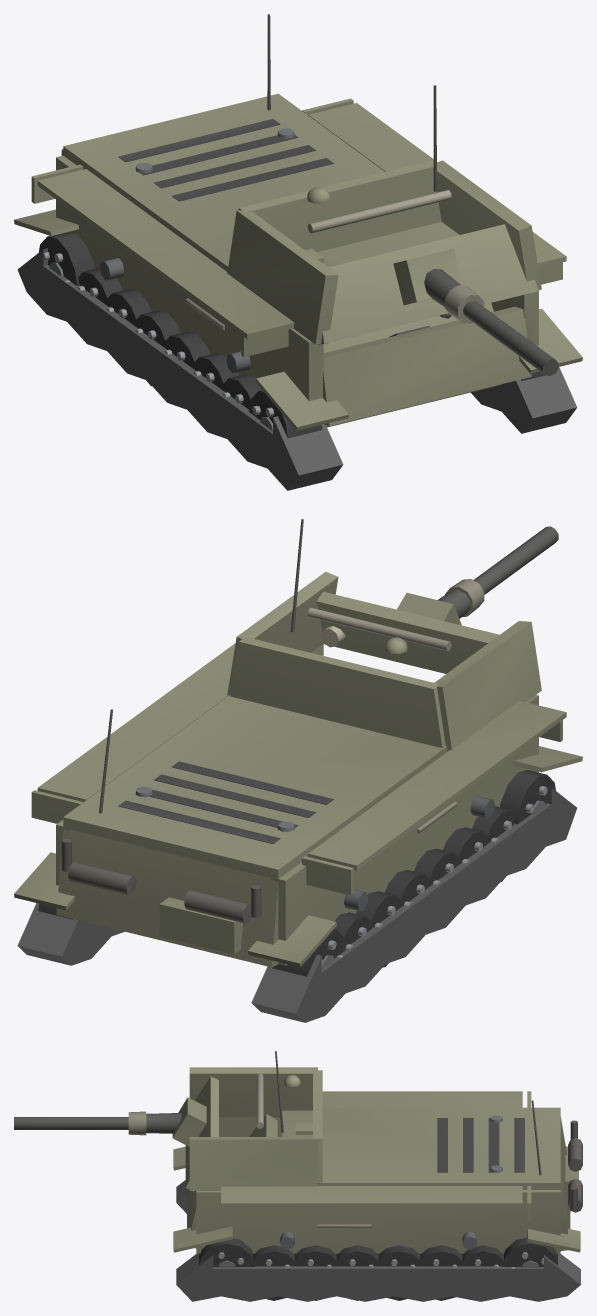
The model's file is m7priest.glb.
3 renders of one model, top to bottom at view 1: azimuth 30°, elevation 25°; view 2: azimuth 150°, elevation 25°; view 3: azimuth 270°, elevation 25°, orthographic. The views are drawn at different scales.
Parts seen in each view (by area): view 1: hullTop, hullSide, tracks, turretSide, lowerPlate, mantlet, barrel, turretRoof, wheel7, glacis, wheel6, wheel1 (+5 smaller); view 2: hullTop, hullSide, tracks, turretSide, hullRear, mantlet, barrel, turretRoof, wheel6, wheel7, wheel3, wheel4 (+4 smaller); view 3: hullSide, hullTop, tracks, turretSide, barrel, hullRear, mantlet, wheel14, wheel15, wheel10, wheel9, wheel13 (+6 smaller).
Boxes of the visible parts, x1,y1,x2,y2 form: hullTop: [63, 93, 459, 271]; hullSide: [31, 98, 566, 401]; tracks: [14, 209, 582, 490]; turretSide: [227, 160, 541, 344]; lowerPlate: [323, 306, 531, 425]; mantlet: [318, 224, 538, 344]; barrel: [424, 268, 558, 375]; turretRoof: [307, 85, 451, 233]; wheel7: [39, 232, 94, 285]; glacis: [305, 249, 502, 427]; wheel6: [249, 390, 322, 438]; wheel1: [104, 289, 151, 328]; hullTop: [63, 695, 447, 879]; hullSide: [31, 626, 566, 965]; tracks: [14, 746, 582, 1022]; turretSide: [227, 571, 541, 751]; hullRear: [56, 709, 280, 967]; mantlet: [316, 591, 499, 673]; barrel: [437, 526, 558, 618]; turretRoof: [290, 519, 451, 654]; wheel6: [500, 770, 555, 824]; wheel7: [272, 928, 345, 976]; wheel3: [414, 848, 460, 887]; wheel4: [443, 827, 489, 863]; hullSide: [196, 1091, 560, 1253]; hullTop: [282, 1107, 560, 1189]; tracks: [173, 1146, 580, 1301]; turretSide: [189, 1067, 322, 1190]; barrel: [14, 1111, 181, 1135]; hullRear: [531, 1100, 582, 1250]; mantlet: [172, 1076, 218, 1191]; wheel14: [199, 1238, 254, 1267]; wheel15: [502, 1237, 557, 1268]; wheel10: [375, 1245, 423, 1300]; wheel9: [417, 1245, 465, 1300]; wheel13: [253, 1245, 298, 1300].
Bounding box in the file's own units: 3.93 × 3.71 × 8.43.
